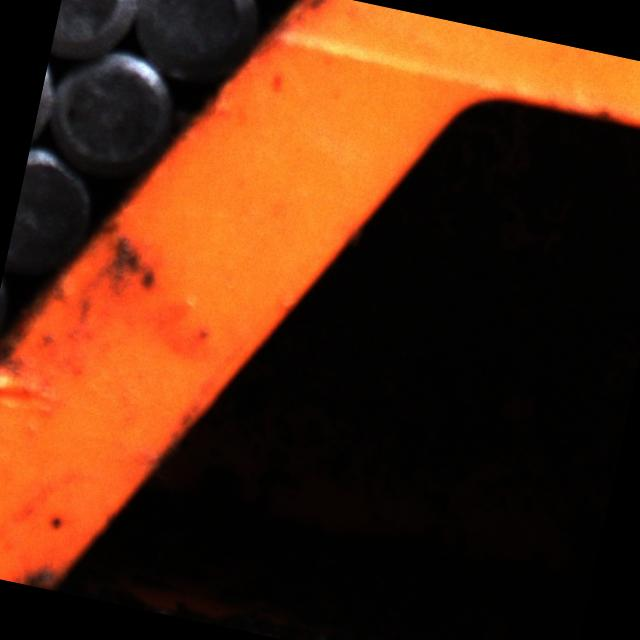tool: (38, 36, 185, 185), (4, 142, 105, 285), (120, 0, 266, 92), (50, 0, 147, 67)
